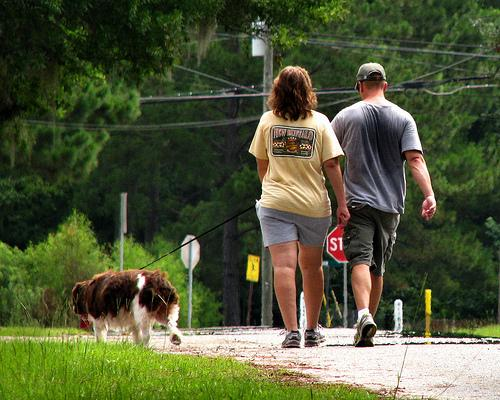person: (250, 65, 350, 347)
